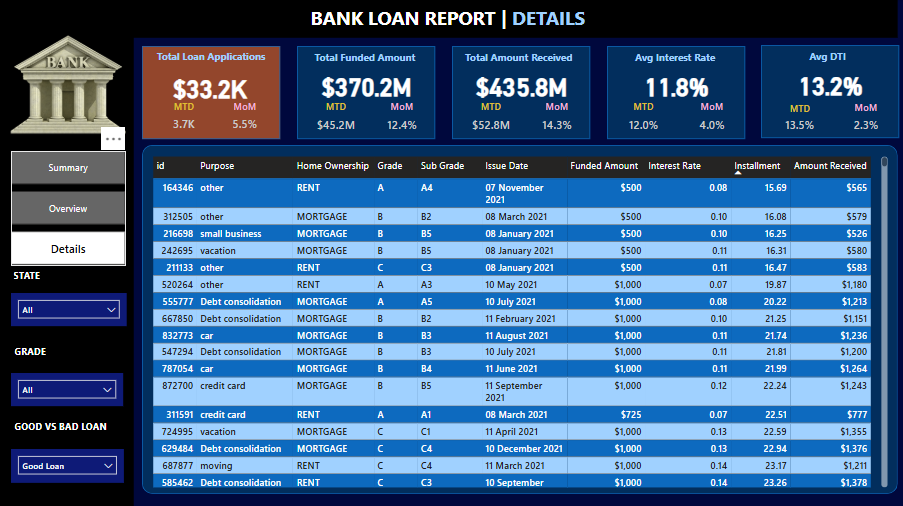

The page's visual inventory and layout, read from the dashboard file:
{"tool":"powerbi","page":{"name":"Details","canvas":[1280,720],"ordinal":2},"visuals":[{"type":"shape","box":[0,0,1279.8,55.3],"z":0},{"type":"shape","box":[1079.9,65.2,195.6,131.8],"z":0,"group":"g5"},{"type":"shape","box":[202.7,66.6,195.6,131.8],"z":0,"group":"g1"},{"type":"shape","box":[422.3,66.6,195.6,131.8],"z":0,"group":"g2"},{"type":"shape","box":[641.5,66.6,195.6,131.8],"z":0,"group":"g3"},{"type":"shape","box":[860.7,66.6,195.6,131.8],"z":0,"group":"g4"},{"type":"shape","box":[0,0,191.3,720],"z":1000},{"type":"card","fields":{"Values":["bank_loan_data.Avg DTI"]},"box":[1083.8,96.9,191.3,49.6],"z":1000,"group":"g5"},{"type":"card","fields":{"Values":["bank_loan_data.Total Funded Amount"]},"box":[426.2,98.3,191.3,49.6],"z":1000,"group":"g2"},{"type":"card","fields":{"Values":["bank_loan_data.Total Amount Received"]},"box":[645.4,98.3,191.3,49.6],"z":1000,"group":"g3"},{"type":"card","fields":{"Values":["bank_loan_data.Avg Interest Rate"]},"box":[864.6,98.3,191.3,49.6],"z":1000,"group":"g4"},{"type":"card","fields":{"Values":["bank_loan_data.Total Loan Applications"]},"box":[200.3,101.2,198.4,49.6],"z":1000,"group":"g1"},{"type":"textbox","box":[1078.9,66.1,195.6,31.2],"z":2000,"group":"g5"},{"type":"textbox","box":[202.7,66.6,195.6,31.2],"z":2000,"group":"g1"},{"type":"textbox","box":[421.3,67.5,195.6,31.2],"z":2000,"group":"g2"},{"type":"textbox","box":[640.5,67.5,195.6,31.2],"z":2000,"group":"g3"},{"type":"textbox","box":[859.7,67.5,195.6,31.2],"z":2000,"group":"g4"},{"type":"shape","box":[202.7,206.9,1071.5,494.6],"z":2000},{"type":"textbox","box":[436.5,2.8,449.3,52.4],"z":3000},{"type":"card","title":"MTD","fields":{"Values":["bank_loan_data.MTD Loan Applications"]},"box":[231.1,143.7,62.4,55.3],"z":3000,"group":"g1"},{"type":"card","title":"MTD","fields":{"Values":["bank_loan_data.MTD Funded Amount"]},"box":[443.2,143.7,70.9,56.7],"z":3000,"group":"g2"},{"type":"card","title":"MTD","fields":{"Values":["bank_loan_data.MTD Total Amount Recieved"]},"box":[661.3,143.7,70.9,56.7],"z":3000,"group":"g3"},{"type":"card","title":"MTD","fields":{"Values":["bank_loan_data.MTD Avg Int Rate"]},"box":[873.2,143.7,78,56.7],"z":3000,"group":"g4"},{"type":"card","title":"MTD","fields":{"Values":["bank_loan_data.MTD Avg DTI"]},"box":[1100.3,145.7,70.9,52.4],"z":3000,"group":"g5"},{"type":"group","id":"g1","title":"Group 1","box":[200.3,66.6,198.4,132.4],"z":4000},{"type":"card","title":"MoM","fields":{"Values":["bank_loan_data.MoM Loan Application"]},"box":[314.7,143.7,68,55.3],"z":4000,"group":"g1"},{"type":"card","title":"MoM","fields":{"Values":["bank_loan_data.MoM Total Funded Amount"]},"box":[542.4,143.7,59.5,56.7],"z":4000,"group":"g2"},{"type":"card","title":"MoM","fields":{"Values":["bank_loan_data.MoM Total Amount Recieved"]},"box":[760.5,143.7,59.5,56.7],"z":4000,"group":"g3"},{"type":"card","title":"MoM","fields":{"Values":["bank_loan_data.MoM Avg Int Rate"]},"box":[979.5,143.7,59.5,56.7],"z":4000,"group":"g4"},{"type":"card","title":"MoM","fields":{"Values":["bank_loan_data.MoM Avg DTI"]},"box":[1199.5,144.3,59.5,53.9],"z":4000,"group":"g5"},{"type":"group","id":"g2","title":"Group 1","box":[421.3,66.6,196.6,133.8],"z":5000},{"type":"group","id":"g3","title":"Group 1","box":[640.5,66.6,196.6,133.8],"z":6000},{"type":"group","id":"g4","title":"Group 1","box":[859.7,66.6,196.6,133.8],"z":7000},{"type":"group","id":"g5","title":"Group 1","box":[1078.9,65.2,196.6,132.9],"z":8000},{"type":"slicer","fields":{"Values":["bank_loan_data.address_state"]},"box":[17,416.7,164.4,46.8],"z":9000},{"type":"textbox","box":[15.6,378.4,58.1,38.3],"z":10000},{"type":"slicer","fields":{"Values":["bank_loan_data.grade"]},"box":[17,530.1,158.7,46.8],"z":11000},{"type":"textbox","box":[17,486.1,69.4,31.2],"z":12000},{"type":"slicer","fields":{"Values":["bank_loan_data.Good Vs Bad Loan"]},"box":[17,637.8,160.2,48.2],"z":28000},{"type":"textbox","box":[17,592.4,158.7,32.6],"z":29000},{"type":"tableEx","fields":{"Values":["bank_loan_data.id","bank_loan_data.purpose","bank_loan_data.home_ownership","bank_loan_data.grade","bank_loan_data.sub_grade","bank_loan_data.issue_date","bank_loan_data.Total Funded Amount","Sum(bank_loan_data.int_rate)","Sum(bank_loan_data.installment)","bank_loan_data.Total Amount Received"]},"box":[212.6,218.3,1051.7,479.1],"z":29001},{"type":"image","box":[7.1,46.8,184.3,150.2],"z":29002},{"type":"pageNavigator","box":[17,215.4,163,163],"z":29003}]}

Visuals, with their boxes in screenshot pixels (x1, y1, x2, y2), scaled from the page's 1280x720 canvas onto the 903x506 screenshot:
shape: rect(0, 0, 902, 39)
shape: rect(762, 46, 900, 138)
shape: rect(143, 47, 281, 139)
shape: rect(298, 47, 436, 139)
shape: rect(453, 47, 591, 139)
shape: rect(607, 47, 745, 139)
shape: rect(0, 0, 135, 505)
card - bank_loan_data.Avg DTI: rect(765, 68, 900, 103)
card - bank_loan_data.Total Funded Amount: rect(301, 69, 436, 104)
card - bank_loan_data.Total Amount Received: rect(455, 69, 590, 104)
card - bank_loan_data.Avg Interest Rate: rect(610, 69, 745, 104)
card - bank_loan_data.Total Loan Applications: rect(141, 71, 281, 106)
textbox: rect(761, 46, 899, 68)
textbox: rect(143, 47, 281, 69)
textbox: rect(297, 47, 435, 69)
textbox: rect(452, 47, 590, 69)
textbox: rect(606, 47, 744, 69)
shape: rect(143, 145, 899, 493)
textbox: rect(308, 2, 625, 39)
"MTD" card: rect(163, 101, 207, 140)
"MTD" card: rect(313, 101, 363, 141)
"MTD" card: rect(467, 101, 517, 141)
"MTD" card: rect(616, 101, 671, 141)
"MTD" card: rect(776, 102, 826, 139)
"Group 1" group: rect(141, 47, 281, 140)
"MoM" card: rect(222, 101, 270, 140)
"MoM" card: rect(383, 101, 425, 141)
"MoM" card: rect(537, 101, 578, 141)
"MoM" card: rect(691, 101, 733, 141)
"MoM" card: rect(846, 101, 888, 139)
"Group 1" group: rect(297, 47, 436, 141)
"Group 1" group: rect(452, 47, 591, 141)
"Group 1" group: rect(606, 47, 745, 141)
"Group 1" group: rect(761, 46, 900, 139)
slicer - bank_loan_data.address_state: rect(12, 293, 128, 326)
textbox: rect(11, 266, 52, 293)
slicer - bank_loan_data.grade: rect(12, 373, 124, 405)
textbox: rect(12, 342, 61, 364)
slicer - bank_loan_data.Good Vs Bad Loan: rect(12, 448, 125, 482)
textbox: rect(12, 416, 124, 439)
tableEx - bank_loan_data.id x bank_loan_data.purpose: rect(150, 153, 892, 490)
image: rect(5, 33, 135, 138)
pageNavigator: rect(12, 151, 127, 266)
